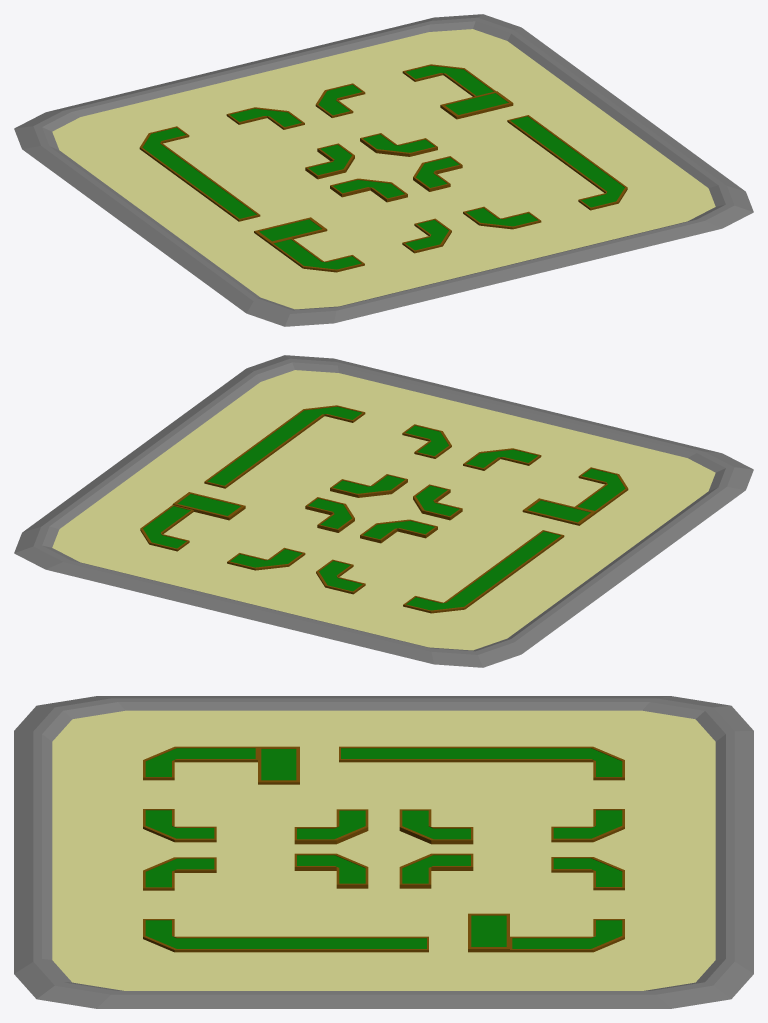
Rendered from Playground_base.fbx.
3 renders of one model, top to bottom at view 1: azimuth 30°, elevation 25°; view 2: azimuth 150°, elevation 25°; view 3: azimuth 270°, elevation 25°, orthographic. The views are drawn at different scales.
Visible parts, largest first — view 1: Playground_base; view 2: Playground_base; view 3: Playground_base.
Boxes of the visible parts, x1,y1,x2,y2 form: Playground_base: [14, 14, 753, 326]; Playground_base: [14, 355, 753, 667]; Playground_base: [14, 696, 753, 1008].
Size of the model in its own units: 35.24 by 0.3568 by 35.24.
